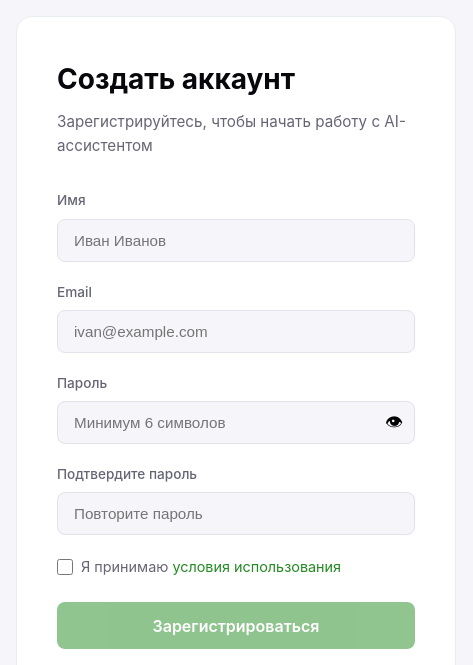
Test: RegisterView › shows error on failed register
This screenshot has width=473, height=665.
Type "Test User" into the field with id "name" at (236, 240), box [57,219,415,262]
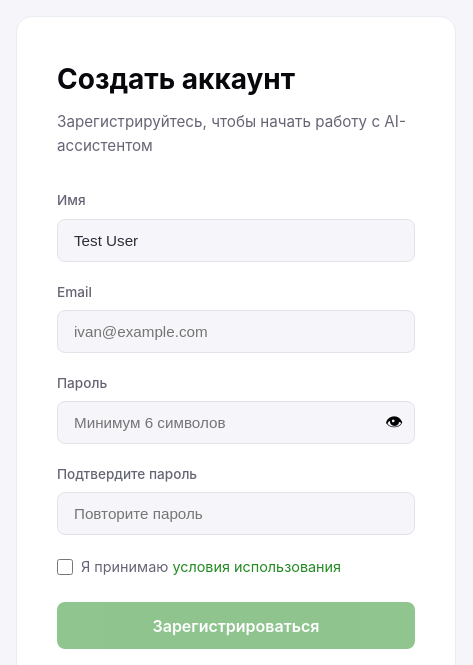
Type "test@test.com" into the field with id "email" at (236, 331), box [57,310,415,353]
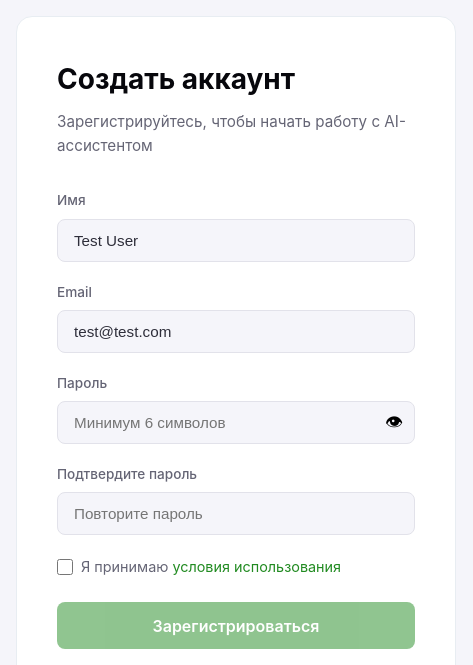
Type "123456" into the password field labelled "Пароль" at (236, 422), box [57,401,415,444]
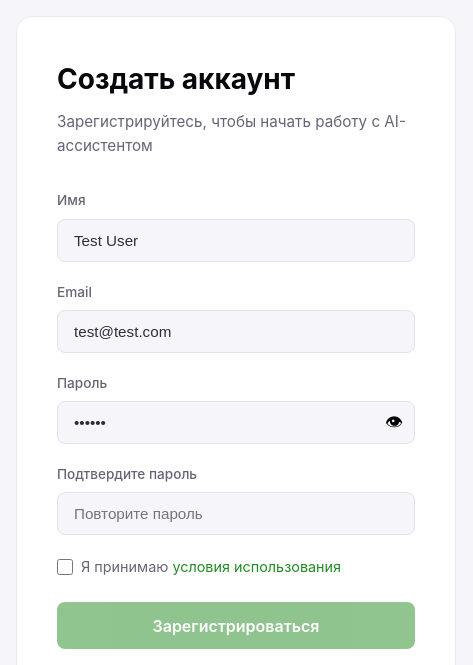
Type "123456" into the password field with id "confirm" at (236, 514), box [57,492,415,535]
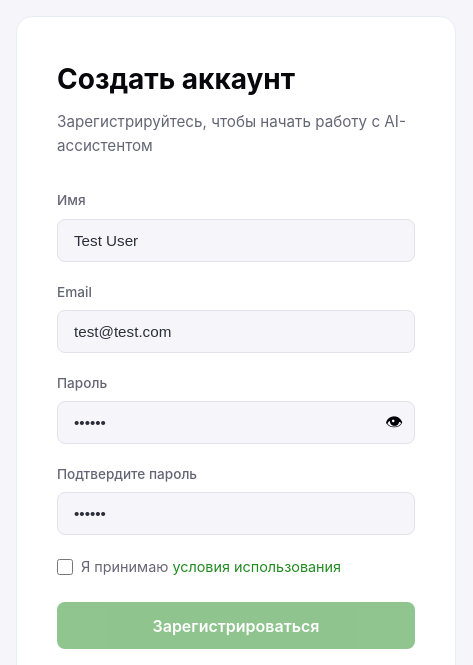
Click the checkbox labelled "Я принимаю условия использования" at (65, 566), box [57,558,73,574]
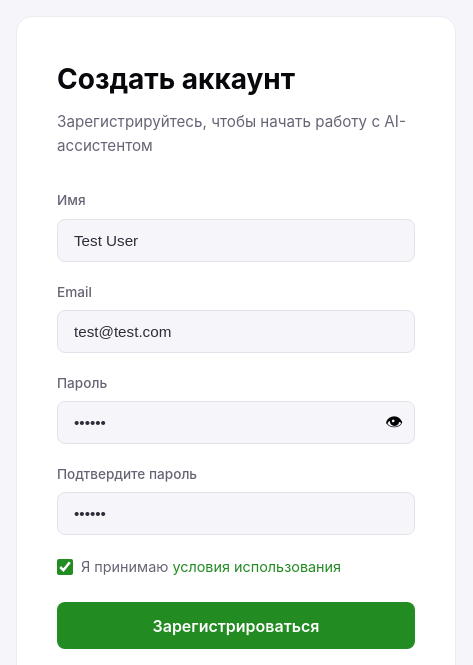
Submit the form, box [57,190,415,649]
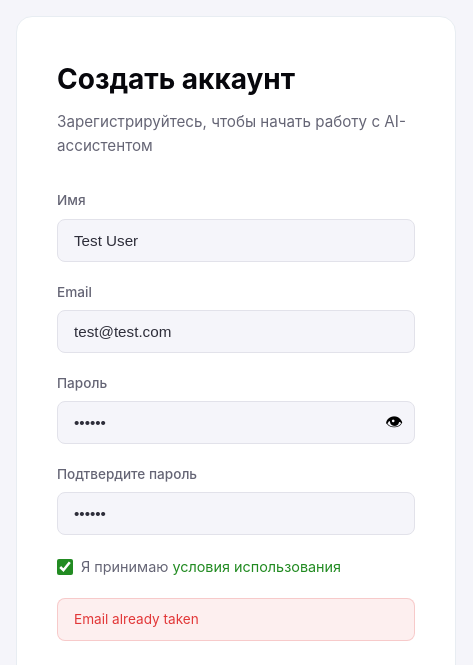
Result: the text with class "form-error" reads "Email already taken" at [74,611,199,627]
